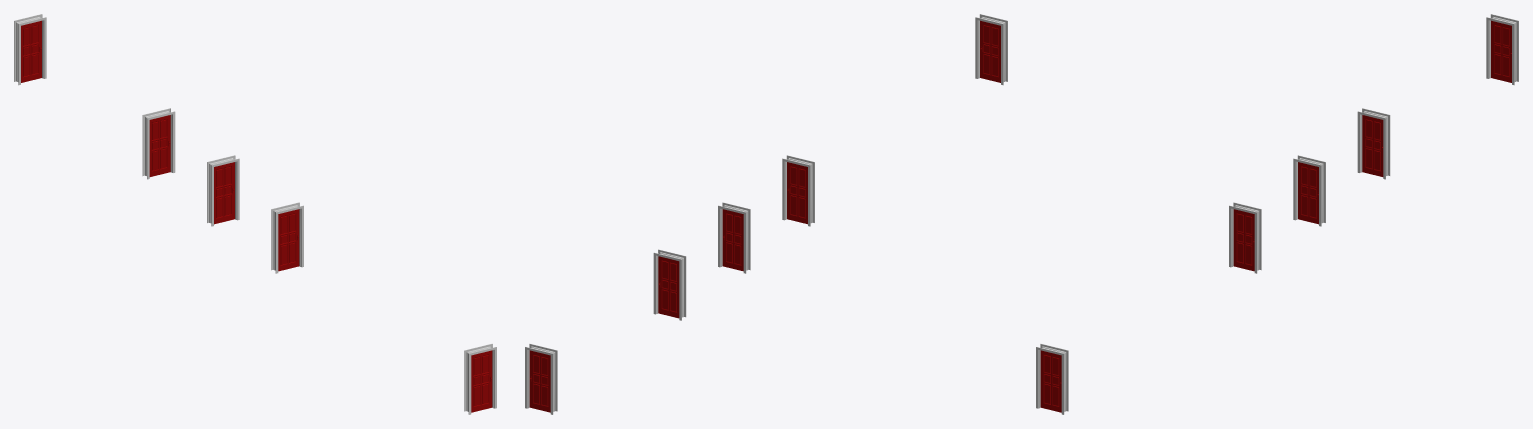
Rendered from Doors.fbx.
The picture shows the model from 3 angles, left to right: view 1: azimuth 30°, elevation 25°; view 2: azimuth 150°, elevation 25°; view 3: azimuth 330°, elevation 25°; orthographic projection.
Parts seen in each view (by area): view 1: Door_Main (×5), Door_Frame (×5); view 2: Door_Main (×5), Door_Frame (×5); view 3: Door_Main (×5), Door_Frame (×5).
Part boxes in pixels (box(x1,y1,x2,y2)): Door_Main (×5): box(21, 20, 492, 412); Door_Frame (×5): box(14, 14, 496, 414); Door_Main (×5): box(529, 20, 1000, 412); Door_Frame (×5): box(525, 14, 1007, 414); Door_Main (×5): box(1040, 20, 1511, 412); Door_Frame (×5): box(1036, 14, 1518, 414).
Size of the model in its own units: 100 by 210 by 2829.
